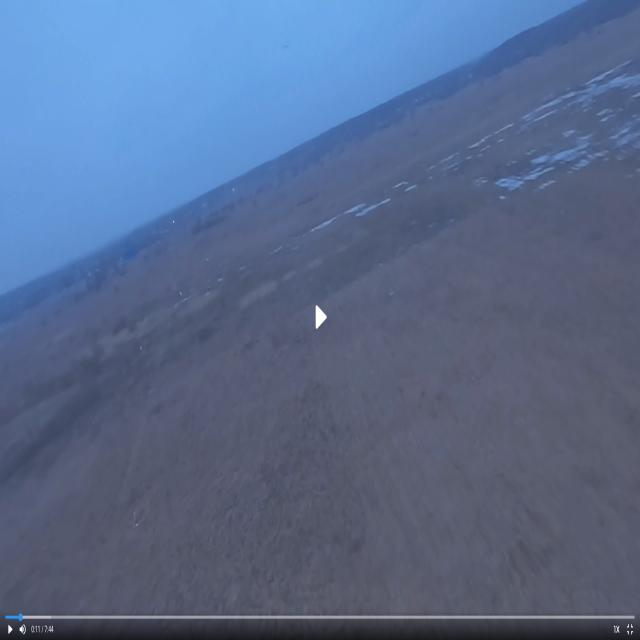planedrone: (280, 40, 291, 50)
